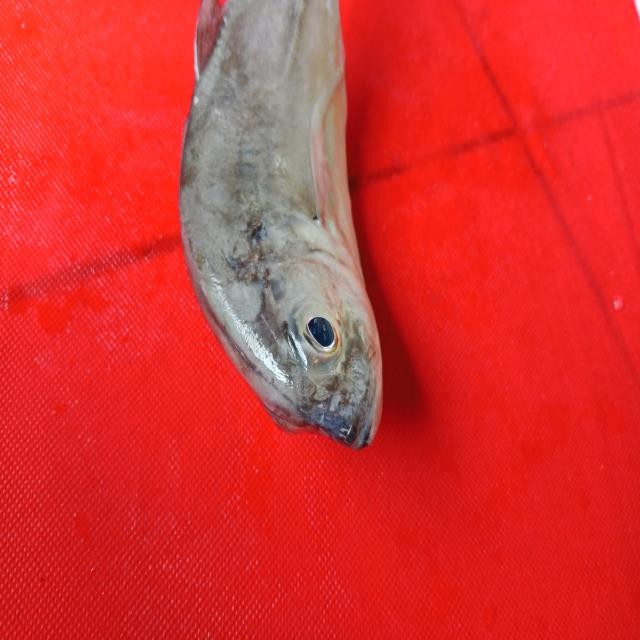ikan: (162, 8, 406, 466)
